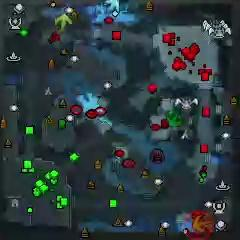x2: (54, 13, 73, 31)
x3: (104, 0, 121, 13)
x4: (165, 110, 184, 128)
x5: (193, 214, 211, 235)
